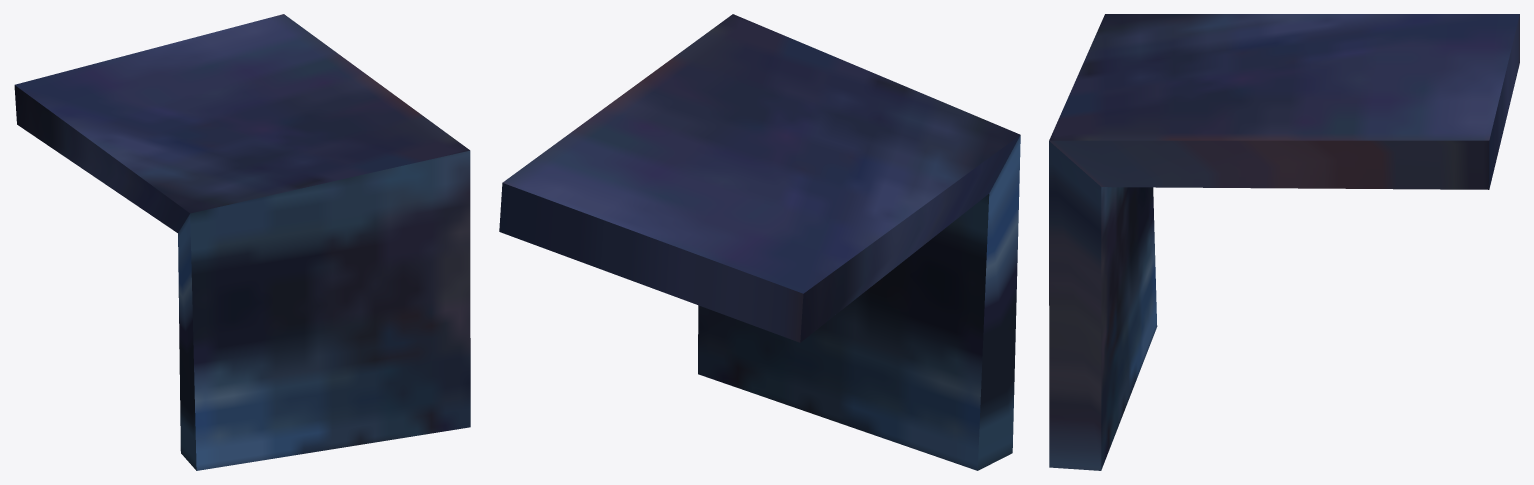
The model's file is Shared - Ground Vehicles - Big Rig - Damage State 05 - CVBigRig_d05.glb.
The picture shows the model from 3 angles, left to right: view 1: azimuth 30°, elevation 25°; view 2: azimuth 150°, elevation 25°; view 3: azimuth 270°, elevation 25°; orthographic projection. The views are drawn at different scales.
Parts seen in each view (by area): view 1: CVBIGRIG_D05; view 2: CVBIGRIG_D05; view 3: CVBIGRIG_D05.
Boxes of the visible parts, left/top/right/bottom form: CVBIGRIG_D05: left=14, top=14, right=470, bottom=470; CVBIGRIG_D05: left=499, top=14, right=1020, bottom=470; CVBIGRIG_D05: left=1049, top=14, right=1519, bottom=470.
Size of the model in its own units: 3.27 by 3.3 by 4.3.
Materials: 1 (1 with a texture image).
